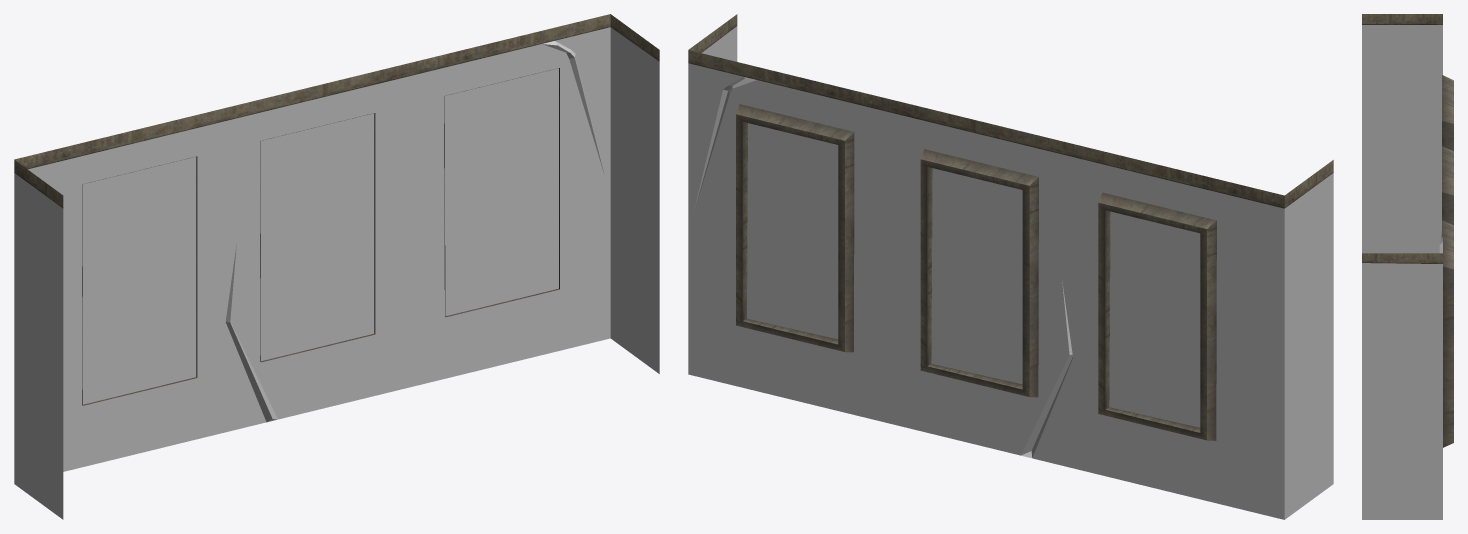
The model's file is Store_front_6_C.fbx.
The picture shows the model from 3 angles, left to right: view 1: azimuth 30°, elevation 25°; view 2: azimuth 150°, elevation 25°; view 3: azimuth 270°, elevation 25°; orthographic projection. The views are drawn at different scales.
Parts seen in each view (by area): view 1: Store_front_6_C; view 2: Store_front_6_C; view 3: Store_front_6_C.
Part boxes in pixels (box(x1,y1,x2,y2)): Store_front_6_C: box(14, 14, 659, 519); Store_front_6_C: box(688, 14, 1333, 519); Store_front_6_C: box(1362, 14, 1453, 519).
Size of the model in its own units: 700 by 364 by 114.
